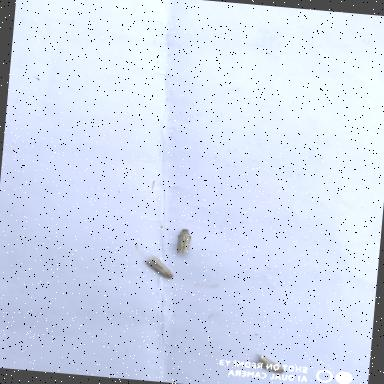pbw: (140, 252, 178, 280), (248, 352, 288, 376), (172, 226, 196, 256)
